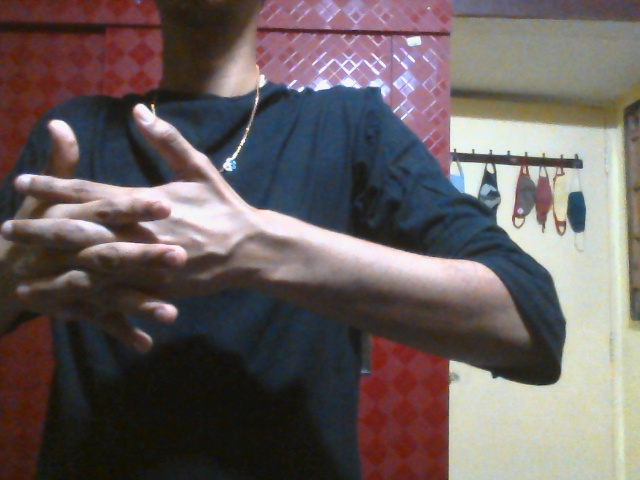W: (2, 103, 246, 356)
